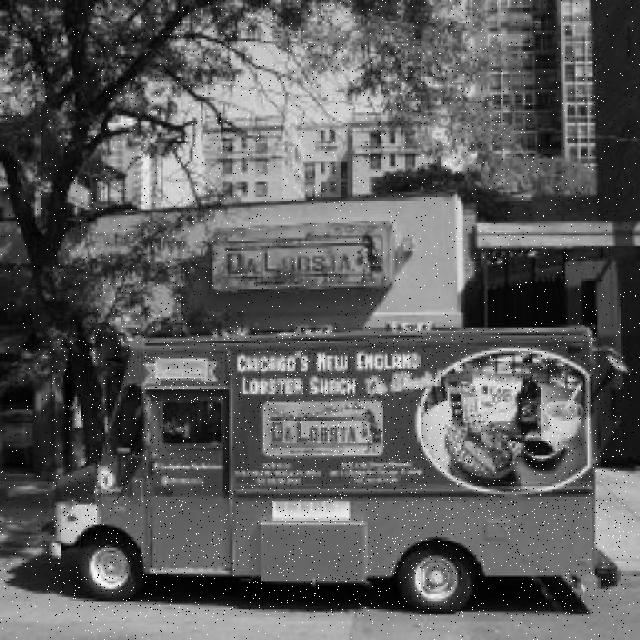Box Truck: (52, 327, 626, 616)
